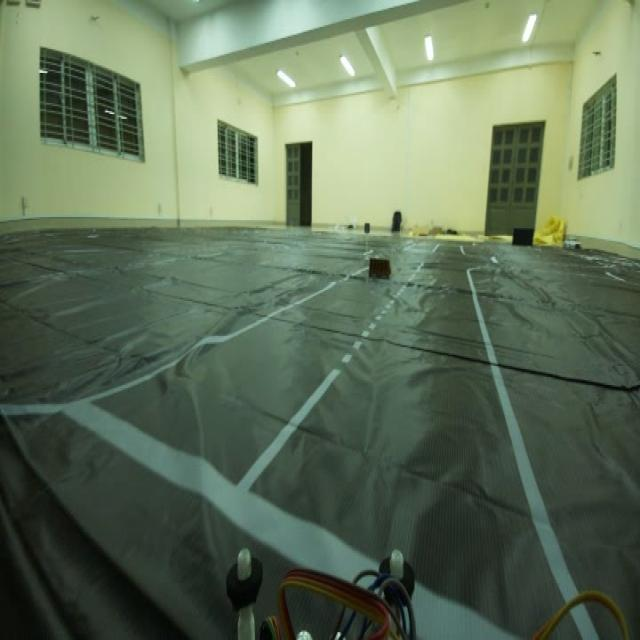roadblock: (366, 251, 394, 289)
